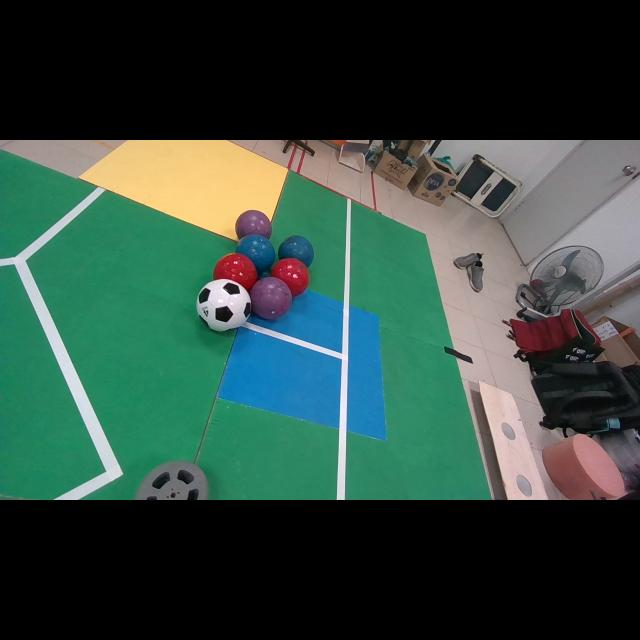B: (236, 235, 275, 274), (278, 235, 314, 266)
P: (250, 276, 292, 319), (235, 210, 271, 239)
R: (212, 252, 258, 290), (271, 259, 309, 296)
